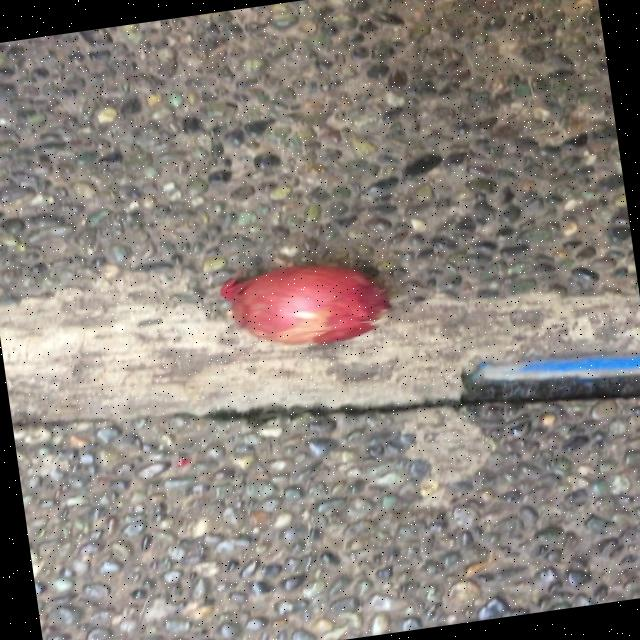Onion: (220, 265, 390, 344)
